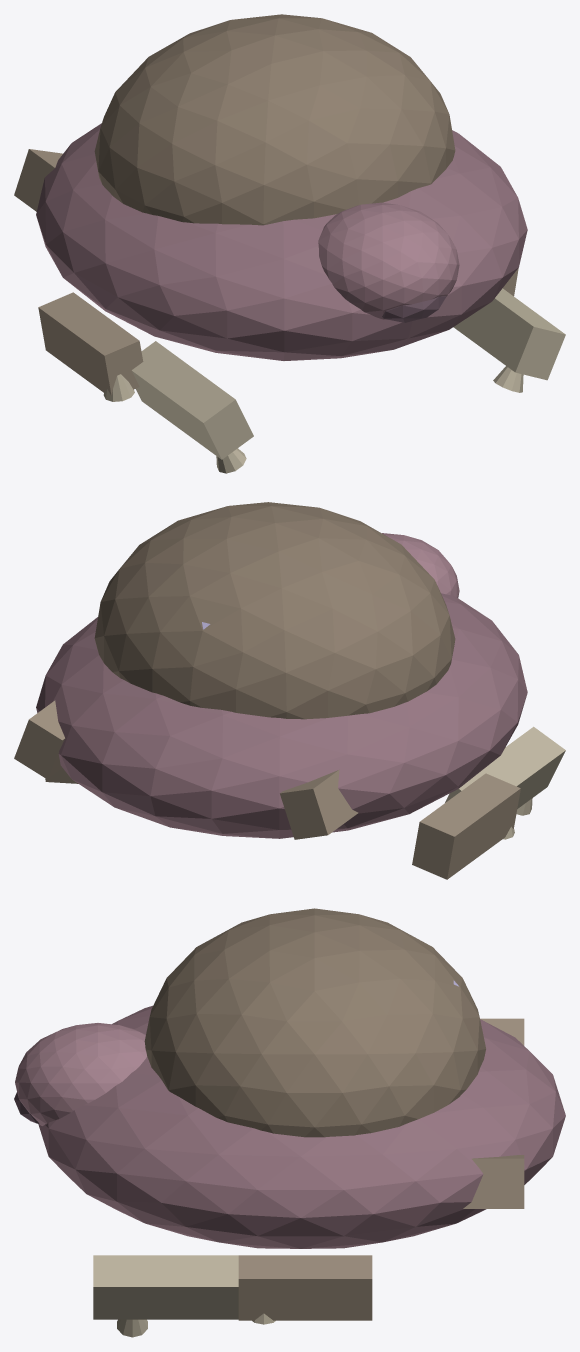
File: zglengo_brood_reaver.glb
The picture shows the model from 3 angles, top to bottom: view 1: azimuth 30°, elevation 25°; view 2: azimuth 150°, elevation 25°; view 3: azimuth 270°, elevation 25°; orthographic projection.
Visible parts, largest first — view 1: shell, base_bulk, head, limb_0, limb_1, limb_3, limb_2, maw; view 2: shell, base_bulk, limb_1, limb_0, limb_2, limb_5, head; view 3: shell, base_bulk, limb_3, head, limb_4, limb_5, limb_2.
Boxes of the visible parts, <box> form: shell: <box>94,14,455,225</box>; base_bulk: <box>36,123,527,360</box>; head: <box>318,202,459,319</box>; limb_0: <box>131,341,253,459</box>; limb_1: <box>38,292,143,396</box>; limb_3: <box>453,288,565,380</box>; limb_2: <box>14,149,62,211</box>; maw: <box>382,296,446,322</box>; shell: <box>94,502,455,719</box>; base_bulk: <box>36,593,527,838</box>; limb_1: <box>412,773,520,879</box>; limb_0: <box>445,726,565,808</box>; limb_2: <box>280,769,358,839</box>; limb_5: <box>14,700,65,779</box>; head: <box>382,533,459,597</box>; shell: <box>144,908,485,1137</box>; base_bulk: <box>38,1005,565,1248</box>; limb_3: <box>93,1255,238,1319</box>; head: <box>15,1023,146,1125</box>; limb_4: <box>238,1255,372,1320</box>; limb_5: <box>463,1155,524,1208</box>; limb_2: <box>480,1018,524,1045</box>.
Size of the model in its own units: 2.1 by 1.57 by 2.39.
